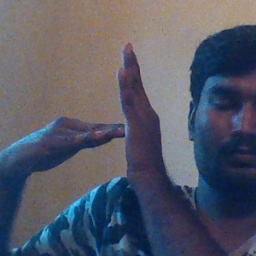Z: (46, 39, 166, 193)
